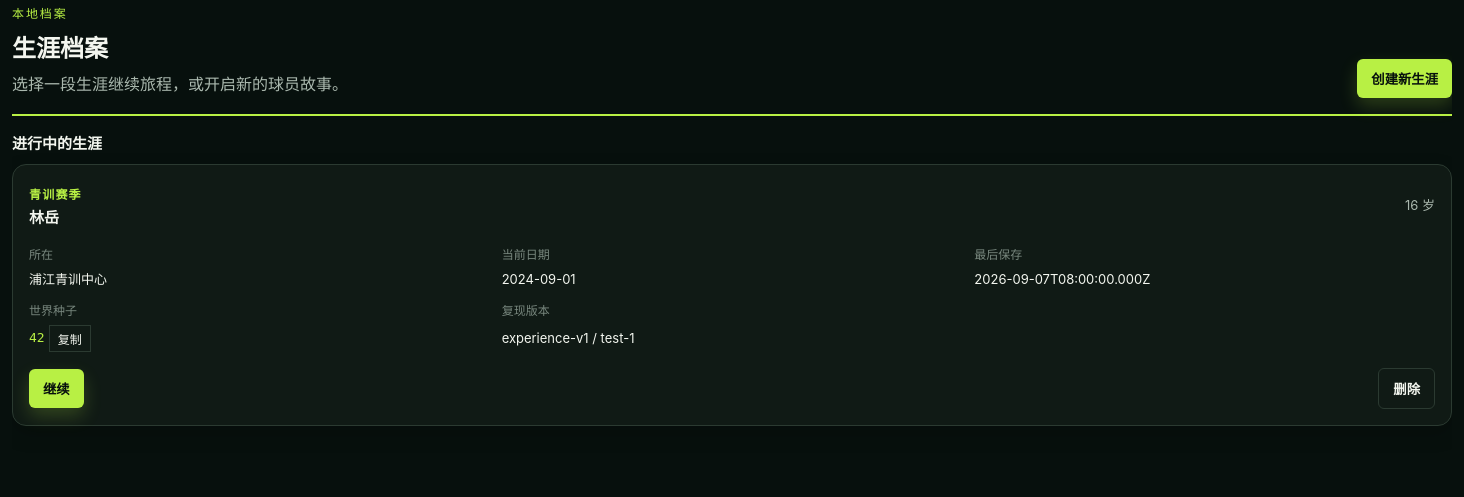
Test case: CareerSaveSelector › keeps the actual seed selectable when clipboard copy fails
The image size is (1464, 497).
Expected: the text "42" is shown, [29, 328, 45, 349]
Click the button with aria-label "复制林岳的世界种子". click: (70, 339)
box: [49, 325, 91, 352]
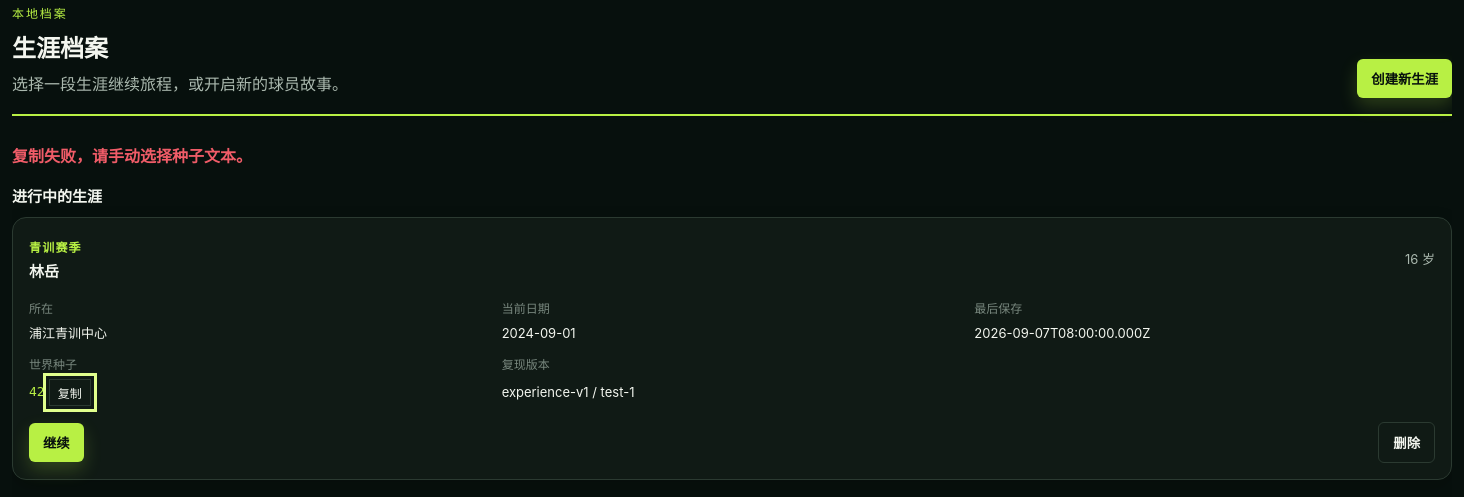
Expected: the text "42" is shown, [29, 382, 45, 403]
Expected: the message reads "复制失败，请手动选择种子文本。", [12, 148, 252, 165]
